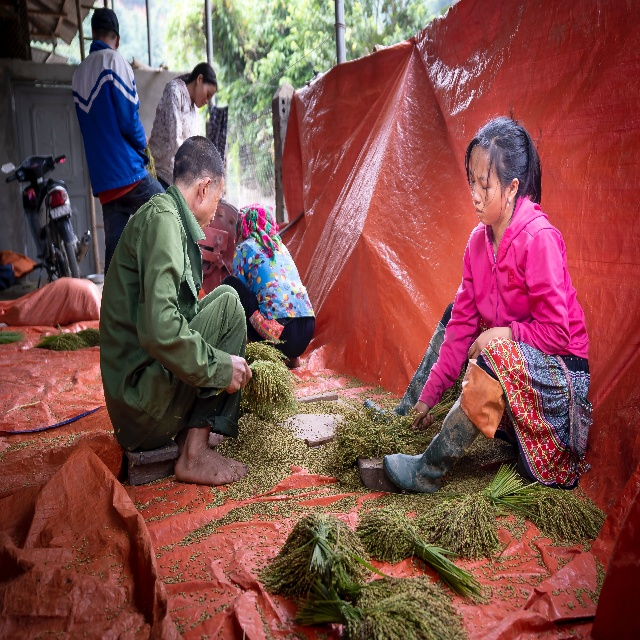Sin_guantes: (468, 325, 514, 367), (226, 352, 252, 395), (409, 400, 435, 432)
